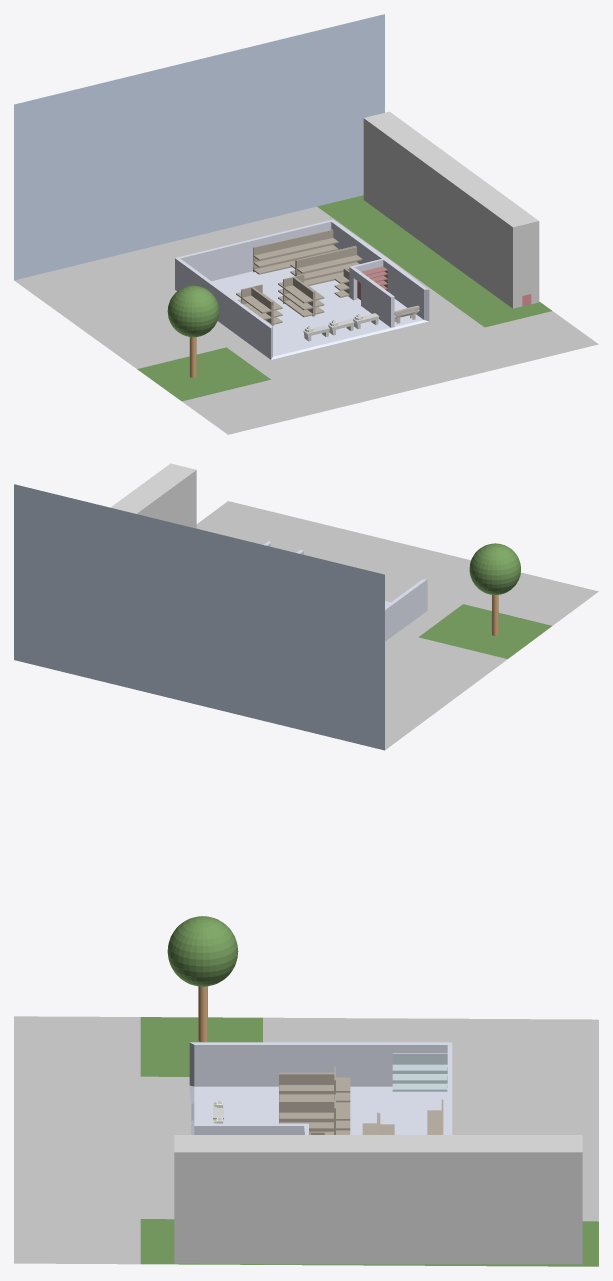
Rendered from convenient_REDO 1.fbx.
3 renders of one model, top to bottom at view 1: azimuth 30°, elevation 25°; view 2: azimuth 150°, elevation 25°; view 3: azimuth 270°, elevation 25°, orthographic. The views are drawn at different scales.
Visible parts, largest first — view 1: Plane.001, Plane, Cube.001, walls, floor, shelf.001, Sphere, shelf.004, shelf.008, shelf.005; view 2: Plane.001, Plane, Cube.001, Sphere, walls; view 3: Plane, Cube.001, walls, floor, Sphere, shelf.011, shelf.012, shelf.007.
Boxes of the visible parts, box(x1,y1,x2,y2) form: Plane.001: box(14, 14, 384, 280); Plane: box(14, 195, 598, 434); Cube.001: box(363, 111, 539, 308); walls: box(175, 219, 429, 359); floor: box(212, 267, 428, 359); shelf.001: box(253, 229, 338, 274); Sphere: box(167, 285, 219, 337); shelf.004: box(296, 246, 362, 285); shelf.008: box(284, 277, 314, 317); shelf.005: box(242, 287, 272, 325); Plane.001: box(14, 484, 384, 750); Plane: box(196, 501, 598, 749); Cube.001: box(110, 463, 196, 528); Sphere: box(469, 543, 520, 594); walls: box(263, 541, 427, 641); Plane: box(14, 1016, 598, 1266); Cube.001: box(174, 1135, 582, 1264); walls: box(189, 1042, 452, 1134); floor: box(189, 1085, 447, 1134); Sphere: box(167, 916, 238, 986); shelf.011: box(392, 1053, 447, 1091); shelf.012: box(279, 1073, 334, 1100); shelf.007: box(279, 1101, 334, 1134).
Bounding box in the file's own units: 12306 × 5578 × 12306.
